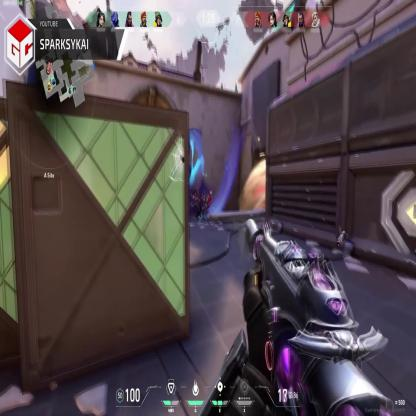enemy: (190, 190, 198, 219), (200, 189, 208, 217)
enemy_head: (191, 190, 196, 198), (204, 190, 207, 196)
